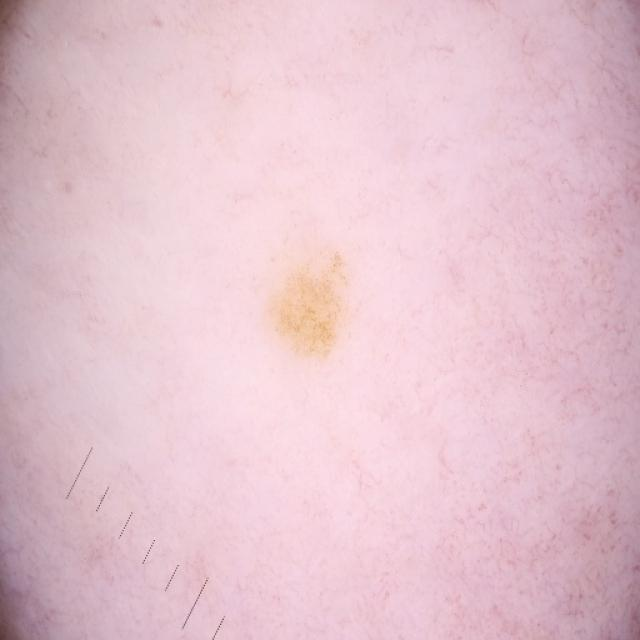Melanoma: (234, 189, 345, 358)
